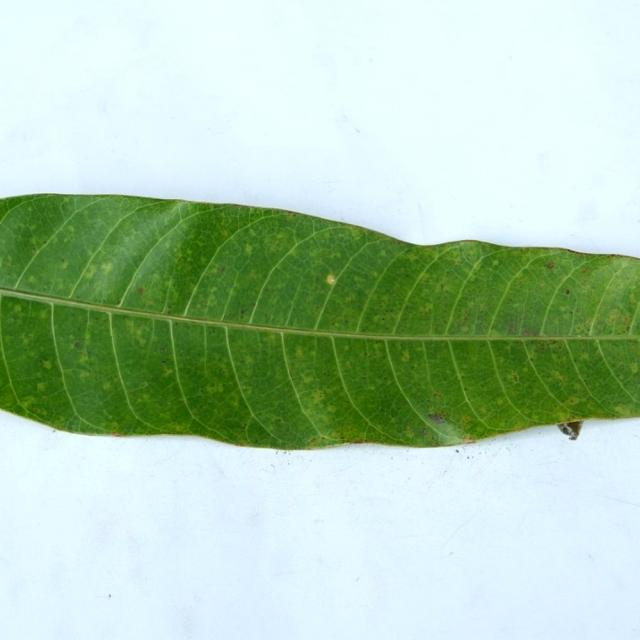Mango: (0, 195, 639, 449)
Powdery_Mildew: (431, 239, 489, 255), (433, 424, 467, 446), (601, 308, 634, 330), (558, 419, 584, 439), (320, 271, 342, 290), (82, 264, 98, 279), (133, 331, 147, 346), (204, 294, 218, 309), (427, 412, 446, 423), (100, 261, 114, 274), (343, 439, 372, 445), (78, 351, 90, 365), (210, 383, 224, 394), (311, 390, 325, 401), (615, 404, 631, 413), (307, 437, 321, 447), (40, 359, 52, 370), (150, 273, 162, 284), (458, 239, 480, 245), (21, 334, 32, 346), (301, 374, 314, 384), (102, 380, 113, 391), (36, 382, 47, 393), (294, 346, 304, 358), (162, 367, 174, 377), (78, 370, 90, 380), (405, 427, 415, 438), (605, 253, 626, 258), (423, 303, 433, 313), (401, 351, 410, 362), (110, 422, 119, 432), (276, 232, 286, 241), (461, 416, 471, 425), (162, 309, 172, 318), (245, 244, 253, 255), (59, 259, 68, 268), (580, 353, 589, 362), (354, 275, 364, 283), (32, 407, 43, 414), (14, 304, 22, 313), (27, 275, 36, 283), (634, 362, 640, 374), (582, 267, 592, 274), (568, 398, 579, 404), (287, 210, 298, 216), (512, 374, 520, 382), (67, 225, 75, 233), (29, 223, 37, 231), (5, 258, 13, 266), (327, 405, 336, 412), (522, 330, 531, 337), (433, 392, 443, 398), (73, 341, 81, 348), (492, 259, 500, 266), (536, 344, 544, 351), (274, 417, 283, 423), (240, 309, 246, 318), (137, 287, 144, 294), (112, 432, 121, 437), (219, 267, 226, 273), (547, 262, 554, 268), (178, 257, 185, 262), (565, 289, 570, 295), (331, 322, 337, 327), (31, 248, 36, 253), (161, 359, 166, 364), (238, 206, 242, 212), (173, 321, 177, 326), (162, 348, 167, 352)
